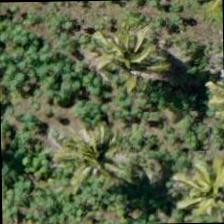Kelapa_Sawit: (85, 16, 177, 108), (49, 119, 141, 210), (164, 147, 223, 224)
